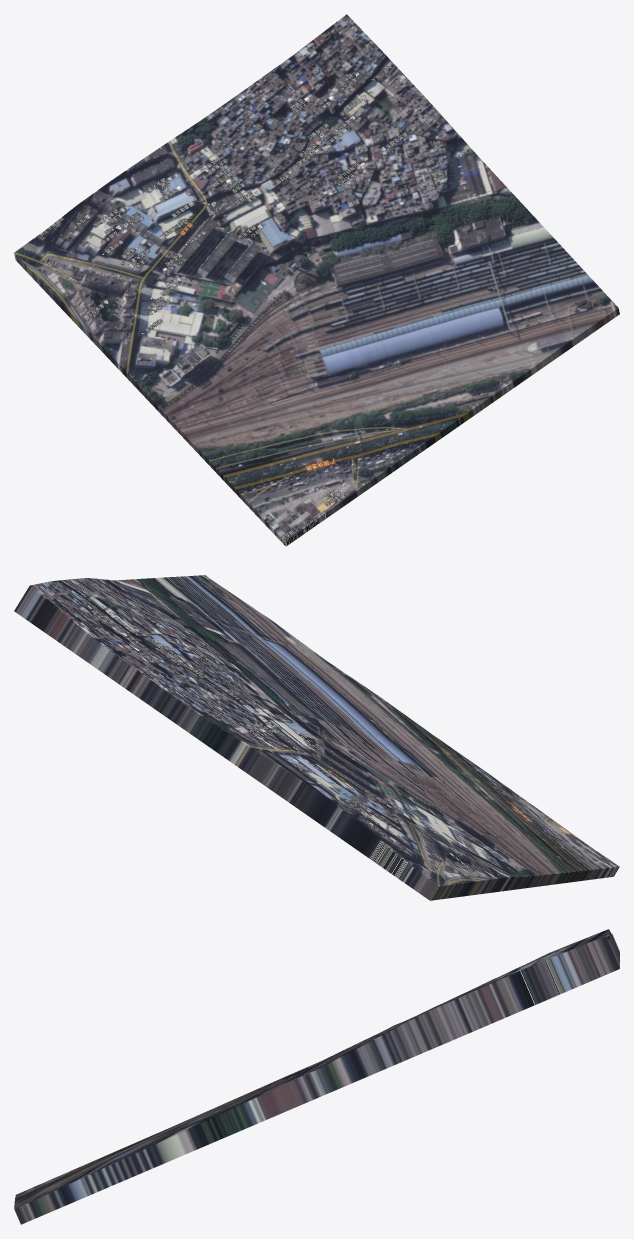
The picture shows the model from 3 angles, top to bottom: view 1: azimuth 30°, elevation 25°; view 2: azimuth 150°, elevation 25°; view 3: azimuth 270°, elevation 25°; orthographic projection. The views are drawn at different scales.
Parts seen in each view (by area): view 1: 0_7_31; view 2: 0_7_31; view 3: 0_7_31.
Part boxes in pixels (<box>): 0_7_31: <box>14,14,619,546</box>; 0_7_31: <box>14,575,619,900</box>; 0_7_31: <box>14,929,619,1224</box>.
Bounding box in the file's own units: 599 × 456 × 548.
Materials: 1 (1 with a texture image).
